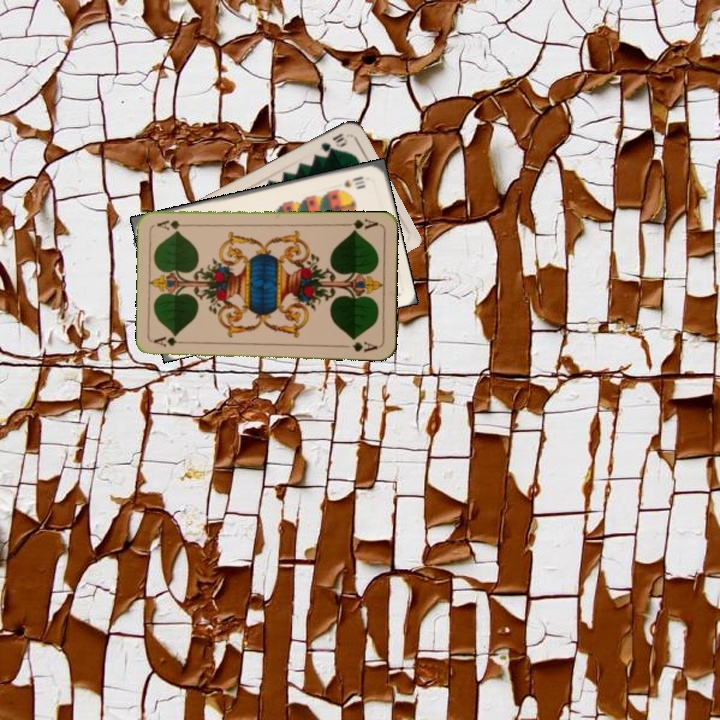G10: (317, 129, 350, 155)
GA: (340, 215, 381, 235), (151, 334, 191, 349)
S10: (340, 172, 367, 190)
